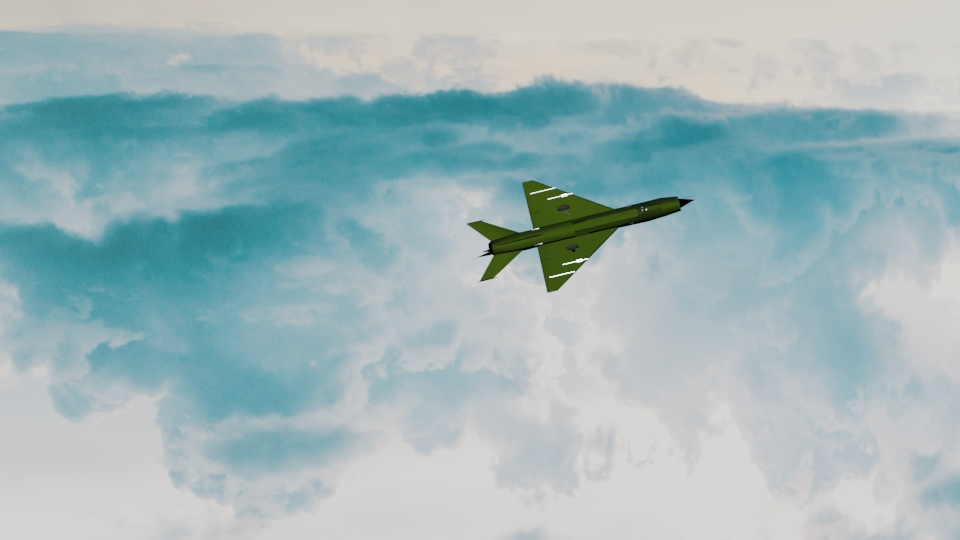plane: (468, 173, 693, 293)
